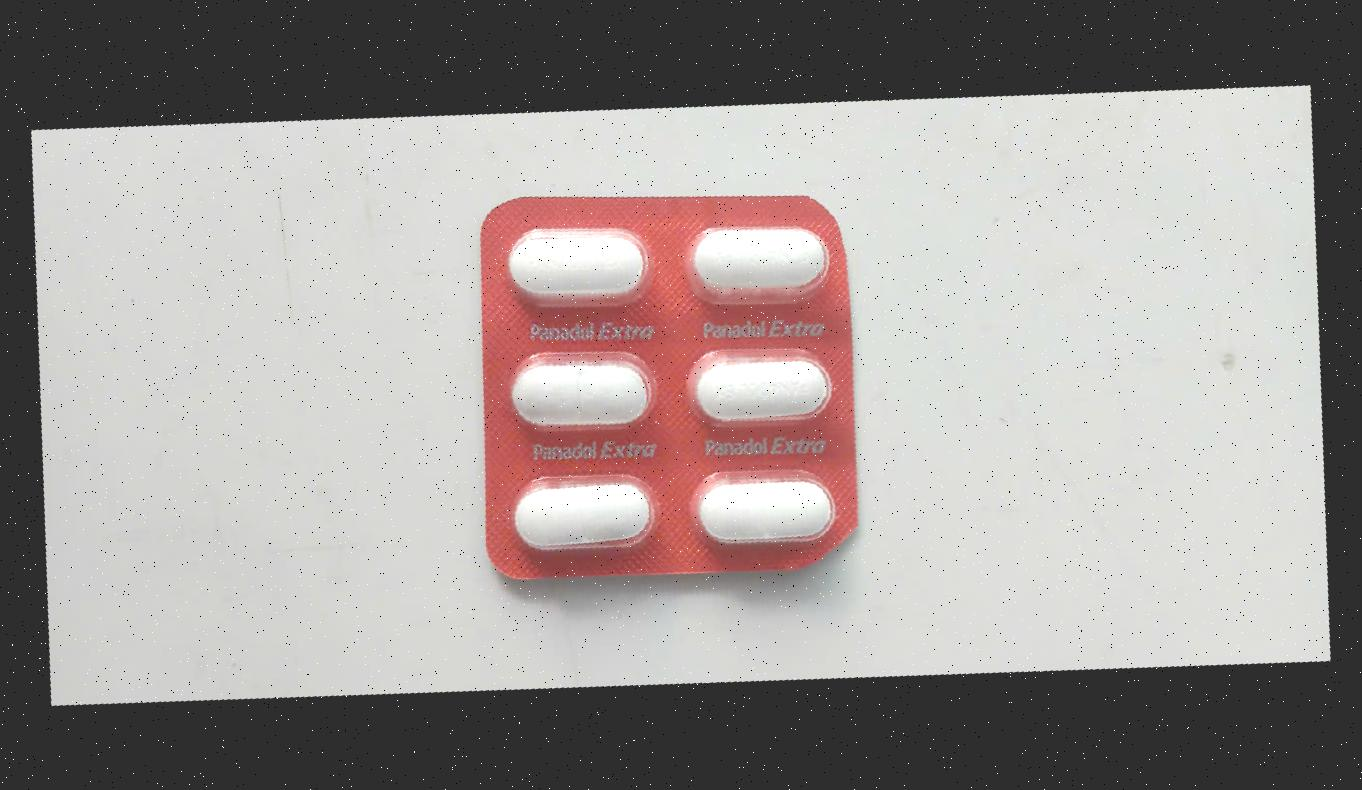Full: (496, 200, 664, 330), (675, 193, 843, 323), (498, 323, 666, 453), (685, 316, 853, 446), (499, 443, 667, 573), (689, 445, 857, 575)
